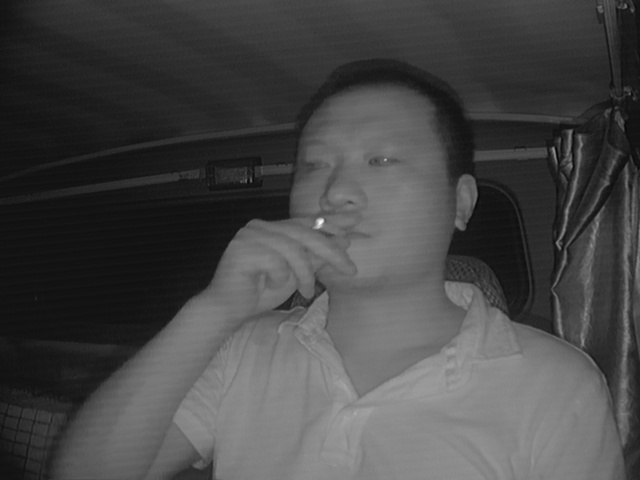hand: (238, 204, 353, 314)
